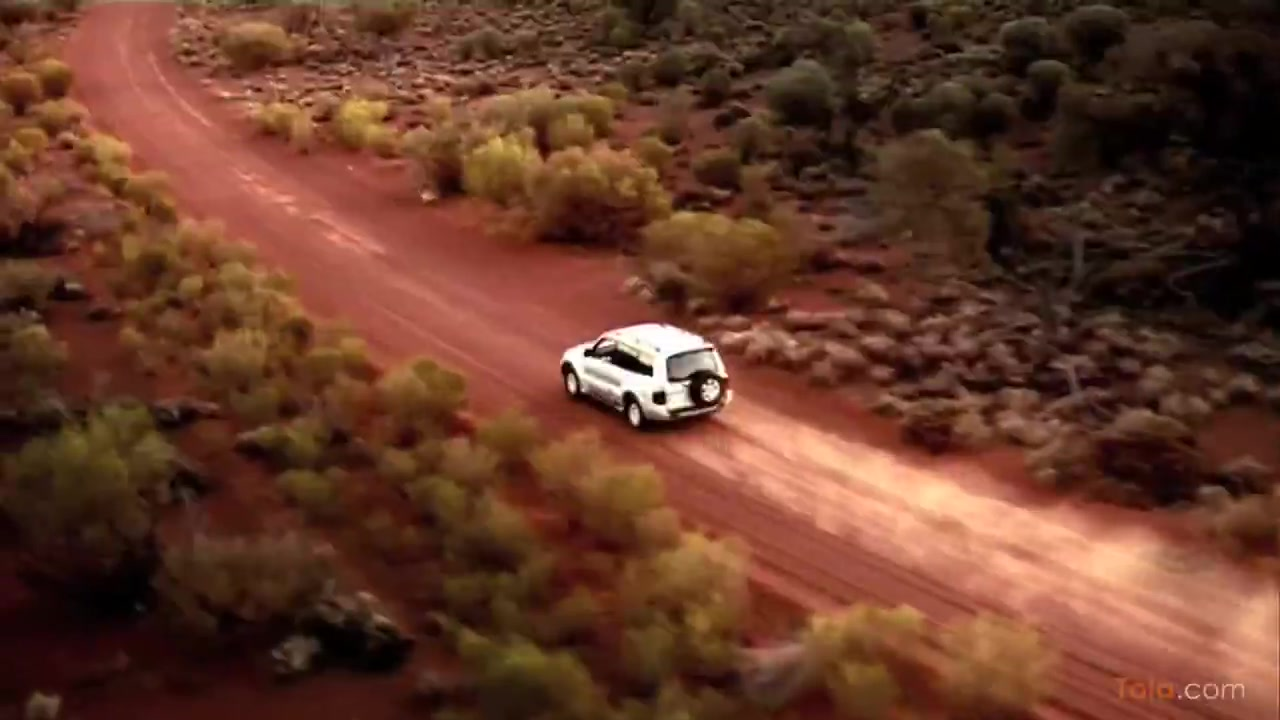car: (560, 319, 735, 433)
